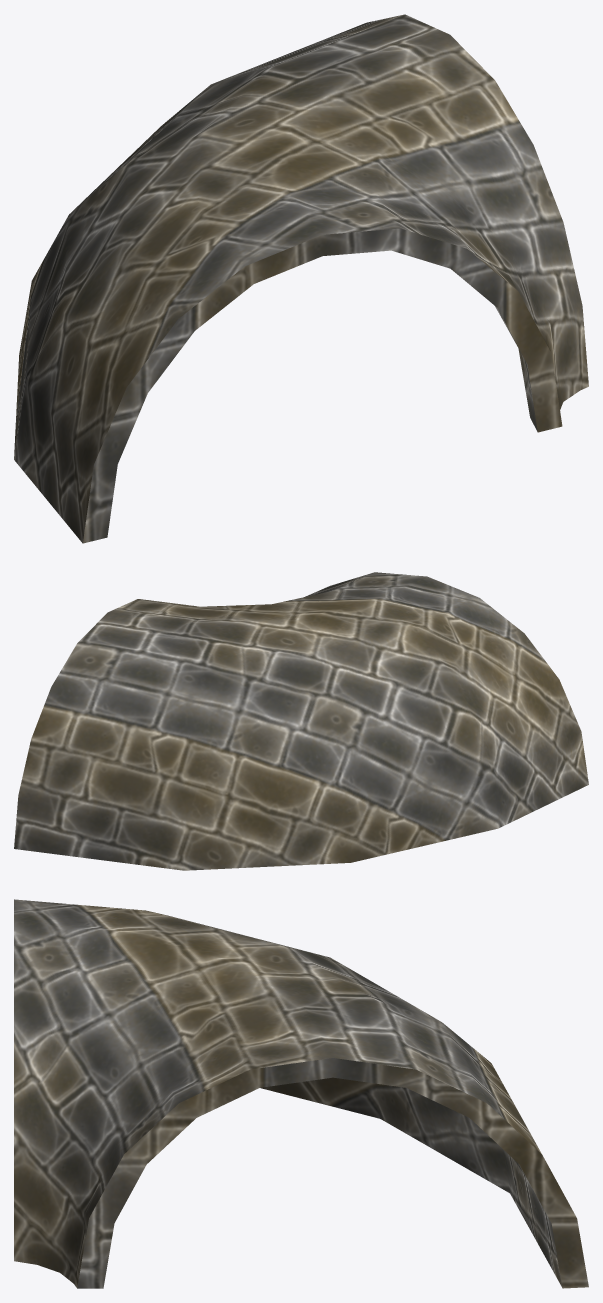
File: CORNER 1.fbx
3 renders of one model, top to bottom at view 1: azimuth 30°, elevation 25°; view 2: azimuth 150°, elevation 25°; view 3: azimuth 270°, elevation 25°, orthographic. The views are drawn at different scales.
Visible parts, largest first — view 1: corner_roof; view 2: corner_roof; view 3: corner_roof.
Part boxes in pixels (box(x1,y1,x2,y2)): corner_roof: box(14, 14, 588, 543); corner_roof: box(14, 572, 588, 870); corner_roof: box(14, 899, 588, 1288).
Bounding box in the file's own units: 899 × 398 × 899.
